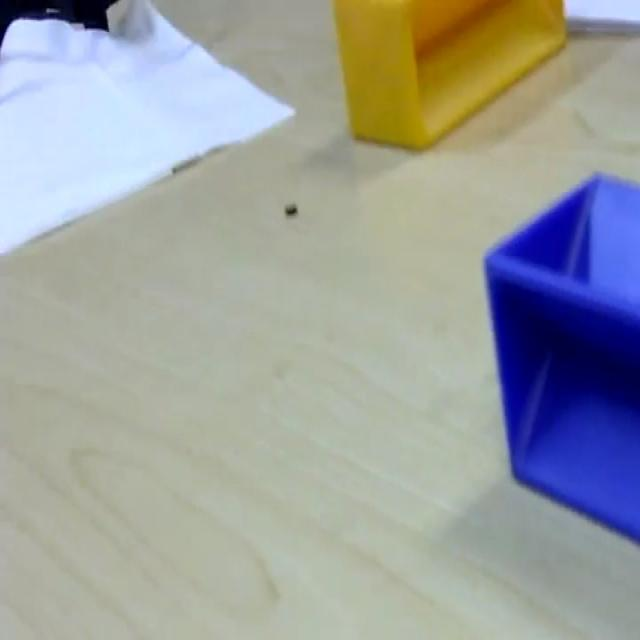blue_block: (482, 167, 638, 544)
yellow_block: (332, 0, 567, 151)
